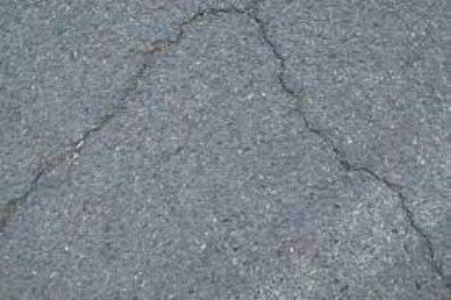crack: (247, 7, 451, 286), (0, 11, 196, 228), (189, 0, 257, 26)
